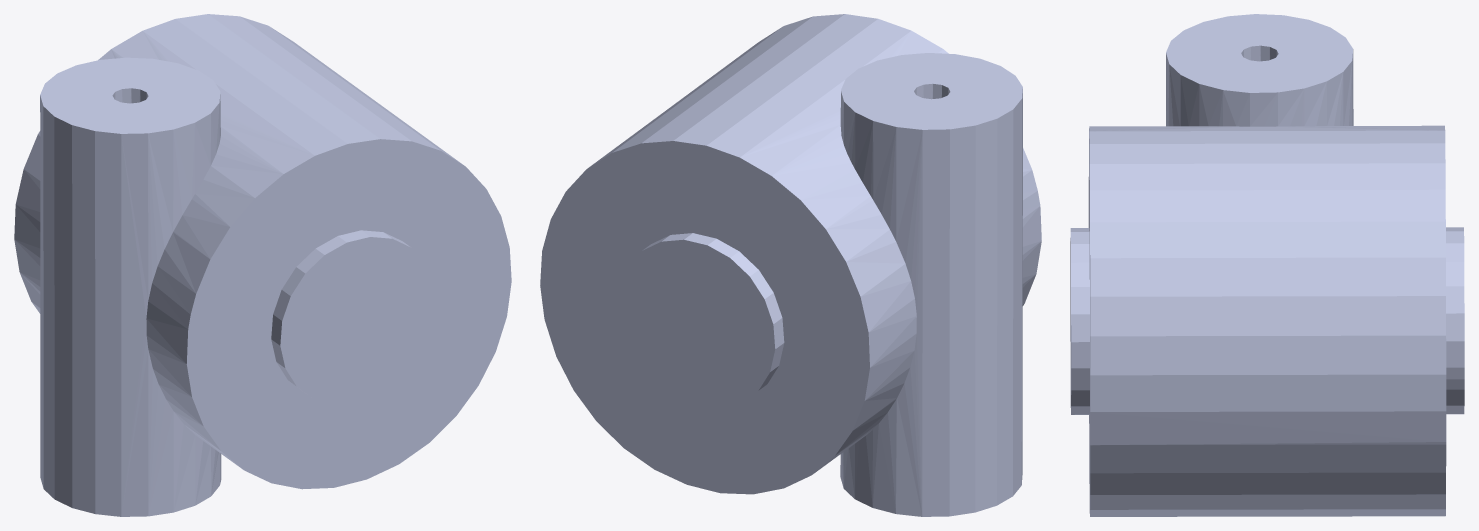
The model's file is left_wrist_pitch_link.dae.
The picture shows the model from 3 angles, left to right: view 1: azimuth 30°, elevation 25°; view 2: azimuth 150°, elevation 25°; view 3: azimuth 270°, elevation 25°; orthographic projection. The views are drawn at different scales.
Visible parts, largest first — view 1: node; view 2: node; view 3: node.
Part boxes in pixels (bbox=[...]): node: bbox=[14, 14, 511, 516]; node: bbox=[540, 14, 1041, 516]; node: bbox=[1070, 14, 1464, 516].
Size of the model in its own units: 0.0723 by 0.0701 by 0.0629.
